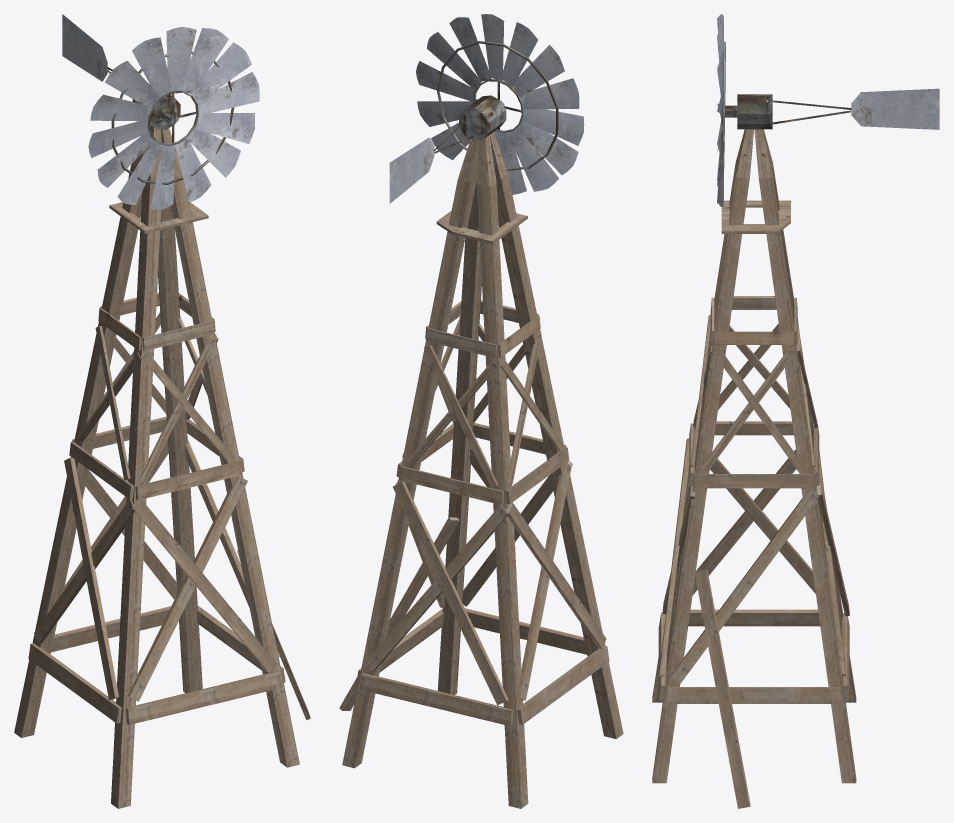
File: Windmill.fbx
3 views of the same model, side by side, from view 1: azimuth 30°, elevation 25°; view 2: azimuth 150°, elevation 25°; view 3: azimuth 270°, elevation 25° (orthographic). The views are drawn at different scales.
Parts seen in each view (by area): view 1: Windmill; view 2: Windmill; view 3: Windmill.
Part boxes in pixels (x1,y1,x2,y2): Windmill: [14, 14, 310, 808]; Windmill: [339, 14, 623, 808]; Windmill: [652, 14, 939, 808].
Size of the model in its own units: 102 by 300 by 109.
